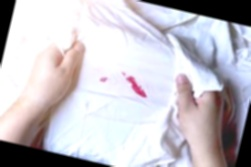lipstick: (117, 70, 157, 100), (97, 72, 109, 85)
